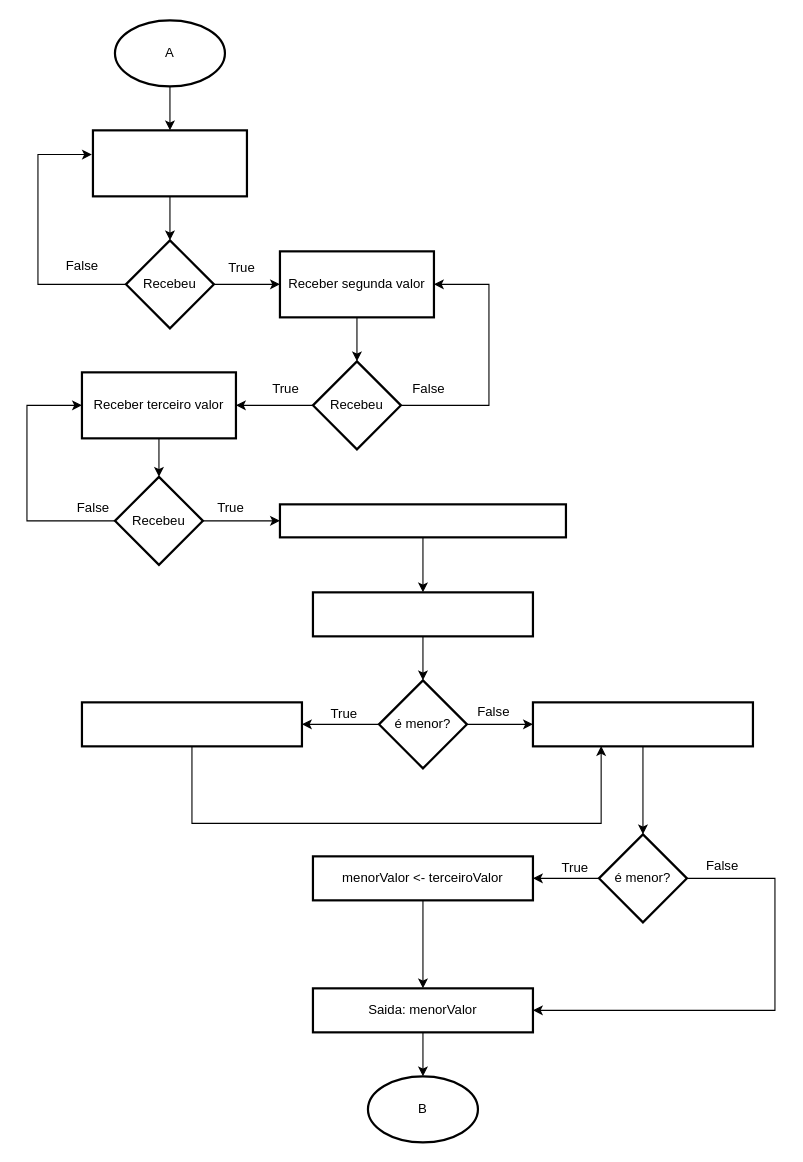
Image size: 803x1162. Some labels were removed from this diagram. Each missing label, with the centre of its shape:
menorValor <- primeiroValor: pixel 422 520
menorValor <- seugndoValor: pixel 191 724
Receber primeiro valor: pixel 169 163
segundoValor < menorValor: pixel 422 614
terceiroValor < menorValor: pixel 642 724
